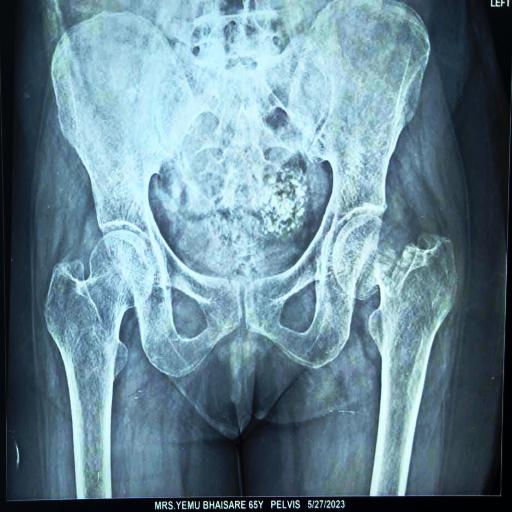neck: (367, 234, 457, 418), (333, 214, 394, 299)
normal: (44, 230, 154, 433)
